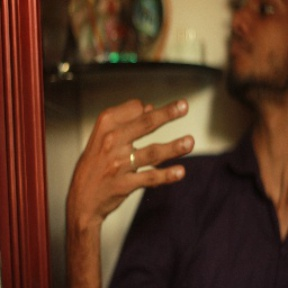K: (63, 98, 195, 207)
